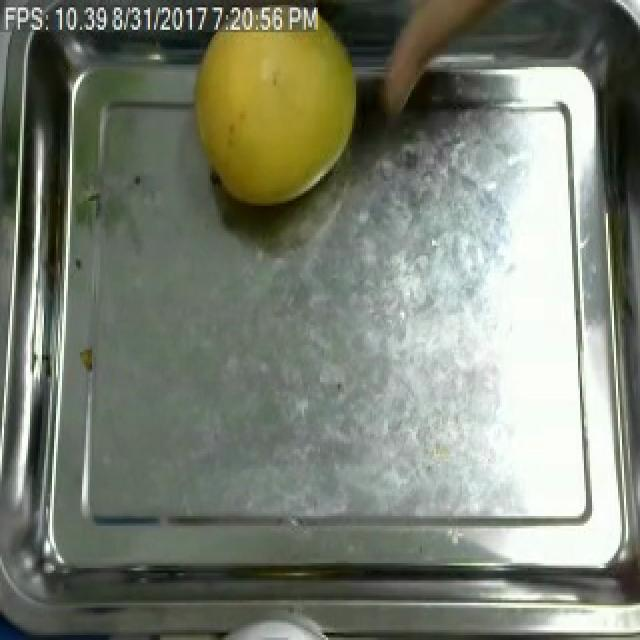fruit: (180, 10, 370, 221)
